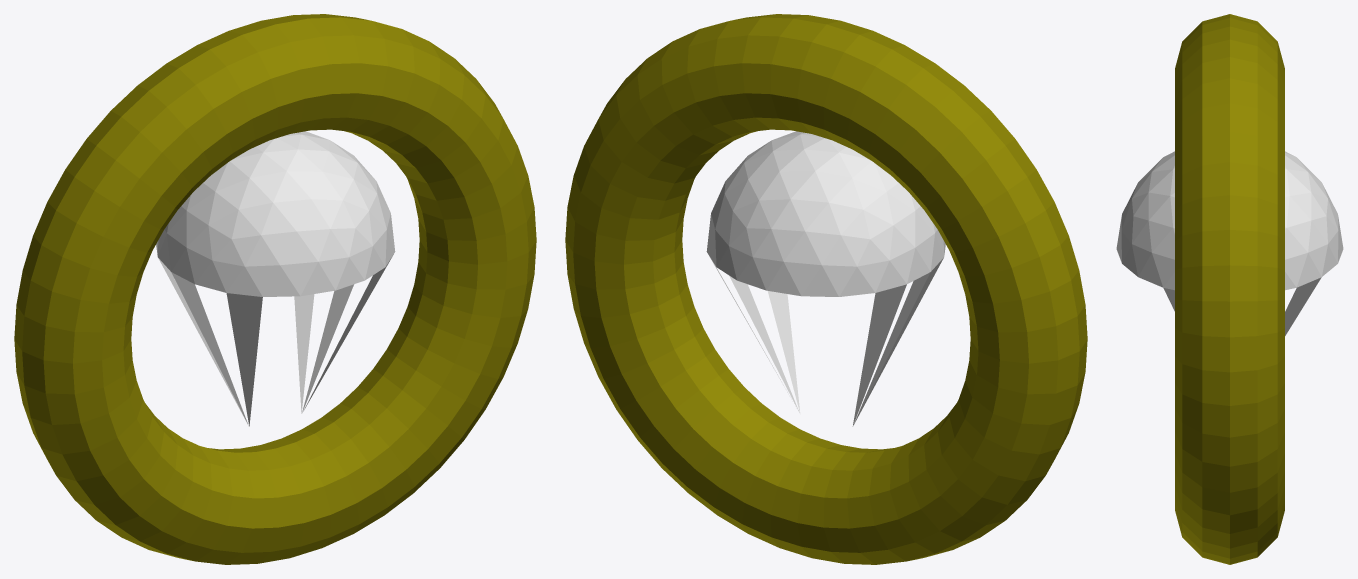
The model's file is jumpspoticon.glb.
3 renders of one model, left to right at view 1: azimuth 30°, elevation 25°; view 2: azimuth 150°, elevation 25°; view 3: azimuth 270°, elevation 25°, orthographic. The views are drawn at different scales.
Parts seen in each view (by area): view 1: Torus; view 2: Torus; view 3: Torus.
Boxes of the visible parts, x1,y1,x2,y2 form: Torus: (14, 14, 536, 564); Torus: (565, 14, 1087, 564); Torus: (1116, 14, 1343, 564).
Size of the model in its own units: 2.5 by 2.5 by 1.03.
